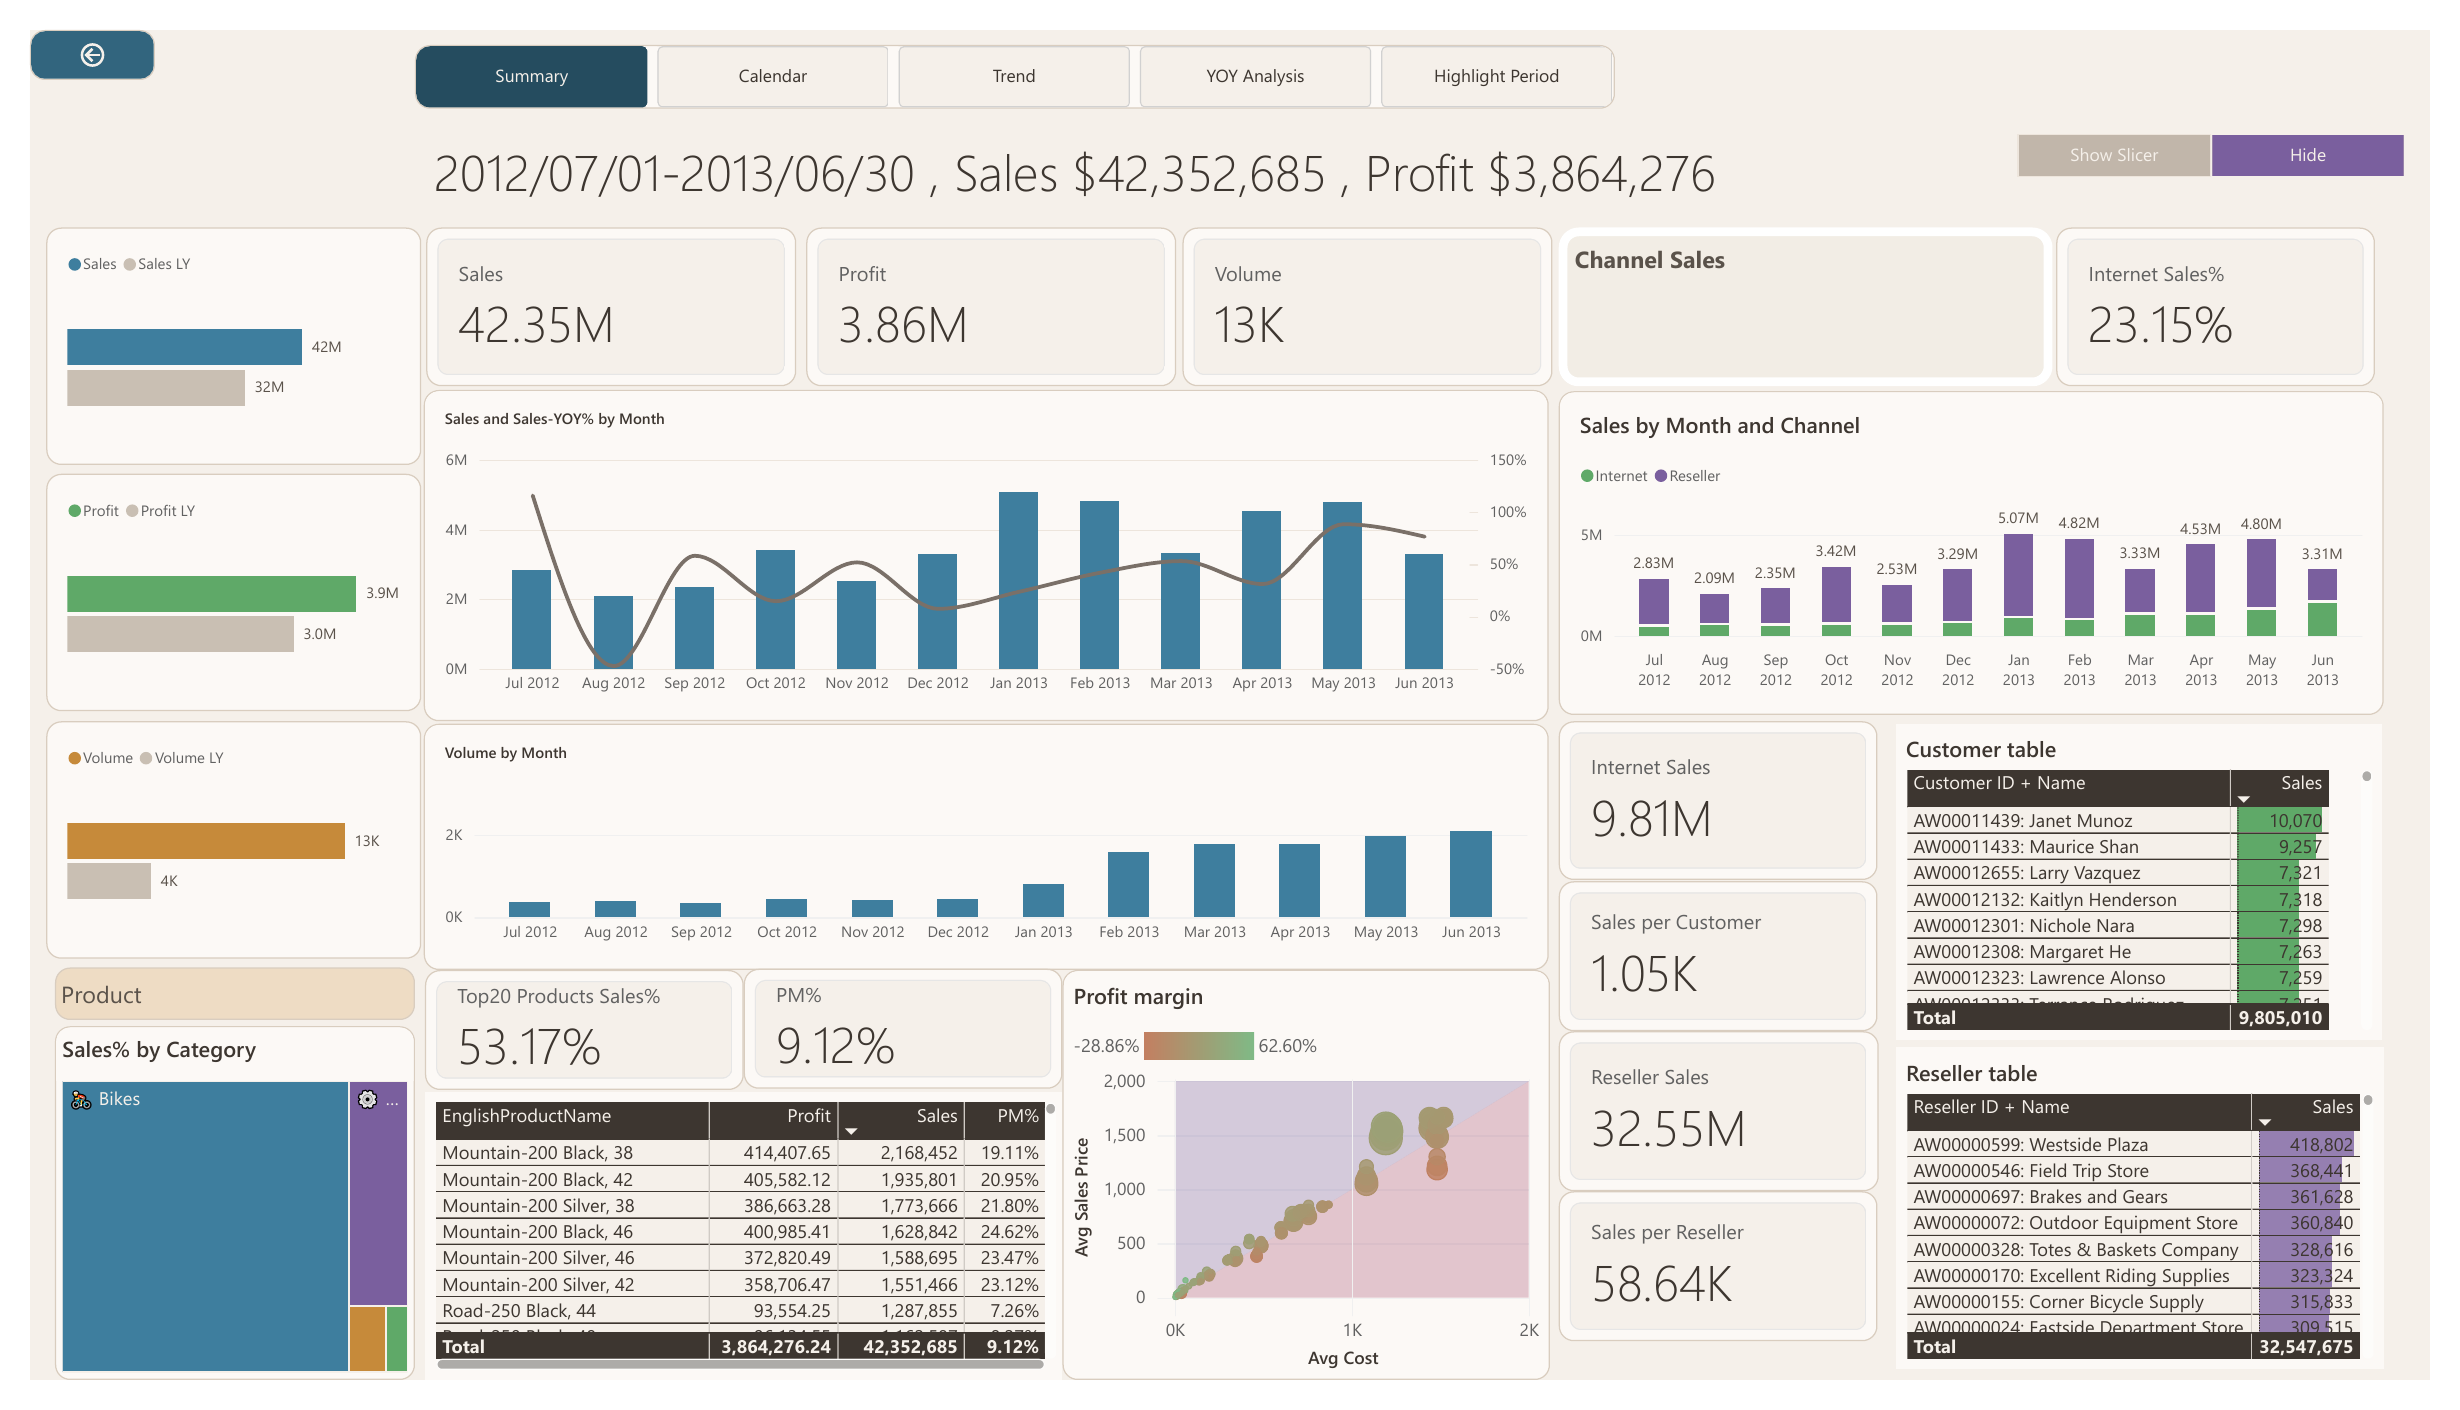

This screenshot's page, from the dashboard's own definition file:
{"tool":"powerbi","page":{"name":"Summary","canvas":[1920,1080],"ordinal":0},"visuals":[{"type":"pageNavigator","box":[308,12,960,51],"z":0},{"type":"textbox","box":[205,52,800,45],"z":1000},{"type":"cardVisual","fields":{"Data":["_Measures.Header Text"]},"box":[308,78,1200,68],"z":2000},{"type":"cardVisual","title":"Sales","fields":{"Data":["_Measures.Sales"]},"box":[316.7,158.3,296,127],"z":3000},{"type":"cardVisual","title":"Profit","fields":{"Data":["_Measures.Profit"]},"box":[620.6,157.8,296,127],"z":4000},{"type":"cardVisual","title":"Volume","fields":{"Data":["_Measures.Volume"]},"box":[921.7,158.3,296,127],"z":5000},{"type":"lineClusteredColumnComboChart","title":"Sales and Sales-YOY% by Month","fields":{"Category":["Date.Month Label"],"Y":["_Measures.Sales"],"Y2":["_Measures.Sales YOY%"]},"box":[315,288.3,900,265],"z":6000},{"type":"actionButton","box":[0,0,100,40],"z":7000},{"type":"columnChart","title":"Volume by Month","fields":{"Category":["Date.Month Label"],"Y":["_Measures.Volume"]},"box":[315,555,900,196.7],"z":8000},{"type":"columnChart","title":"Sales by Month and Channel","fields":{"Category":["Date.Month Label"],"Series":["Sales.Channel"],"Y":["_Measures.Sales"]},"box":[1222.5,289.2,660,258.6],"z":9000},{"type":"textbox","box":[1222.5,157.5,395,127.5],"z":10000},{"type":"cardVisual","title":"Internet Sales %","fields":{"Data":["_Measures.Internet Sales%"]},"box":[1621,158,255,127],"z":11000},{"type":"cardVisual","title":"Internet Sales","fields":{"Data":["_Measures.Internet Sales"]},"box":[1222.5,553.3,255.7,127.1],"z":12000},{"type":"cardVisual","fields":{"Data":["_Measures.Sales per Customer"]},"box":[1222.5,680.8,255.7,120],"z":13000},{"type":"cardVisual","title":"Reseller Sales","fields":{"Data":["_Measures.Reseller Sales"]},"box":[1223.3,800.8,255.7,128.6],"z":14000},{"type":"cardVisual","title":"Sales per Reseller","fields":{"Data":["_Measures.Sales per Reseller"]},"box":[1222.5,929.2,255.7,120],"z":15000},{"type":"tableEx","title":"Customer table","fields":{"Values":["DimCustomer.Customer ID + Name","_Measures.Sales"]},"box":[1493.3,555,388.3,252.5],"z":16000},{"type":"tableEx","title":"Reseller table","fields":{"Values":["DimReseller.Reseller ID + Name","_Measures.Sales"]},"box":[1493.3,814.2,389.2,256.7],"z":17000},{"type":"actionButton","title":"Show slicer","box":[1590,83.3,155,35],"z":19000},{"type":"actionButton","title":"Hide","box":[1745,83.3,155,35],"z":20000},{"type":"actionButton","title":"Hide","box":[1745,82.8,155,35],"z":21000},{"type":"textbox","box":[19.8,750.5,288.6,42],"z":23000},{"type":"treemap","title":"Sales% by Category","fields":{"Group":["DimProductCategory.Category_Slicer_Emoji"],"Values":["_Measures.Sales"]},"box":[19.8,796.6,288.6,283.7],"z":24000},{"type":"cardVisual","fields":{"Data":["_Measures.Top20 Products Sales%"]},"box":[316.1,751.7,255,96],"z":25000},{"type":"cardVisual","fields":{"Data":["_Measures.PM%"]},"box":[570.7,751,255,96],"z":26000},{"type":"tableEx","title":"Reseller table","fields":{"Values":["DimProduct.EnglishProductName","_Measures.Profit","_Measures.Sales","_Measures.PM%"]},"box":[316.1,850,510,230],"z":27000},{"type":"scatterChart","title":"Profit margin","fields":{"Category":["DimProduct.EnglishProductName"],"Size":["_Measures.Sales"],"X":["_Measures.Avg Cost"],"Y":["_Measures.Avg Sales Price"]},"box":[826.1,751.7,390,328.3],"z":28000},{"type":"clusteredBarChart","fields":{"Y":["_Measures.Sales","_Measures.Sales LY"]},"box":[13.3,158.3,300,190],"z":29000},{"type":"clusteredBarChart","fields":{"Y":["_Measures.Profit","_Measures.Profit LY"]},"box":[13.3,355,300,190],"z":30000},{"type":"clusteredBarChart","fields":{"Y":["_Measures.Volume","_Measures.Volume LY"]},"box":[13.3,553.3,300,190],"z":31000}]}

Visuals, with their boxes in screenshot pixels (x1, y1, x2, y2), scaled from the page's 1920x1080 canvas onto the 2460x1410 screenshot:
pageNavigator: bbox(395, 16, 1625, 82)
textbox: bbox(263, 68, 1288, 127)
cardVisual - _Measures.Header Text: bbox(395, 102, 1932, 191)
"Sales" cardVisual: bbox(406, 207, 785, 372)
"Profit" cardVisual: bbox(795, 206, 1174, 372)
"Volume" cardVisual: bbox(1181, 207, 1560, 372)
"Sales and Sales-YOY% by Month" lineClusteredColumnComboChart: bbox(404, 376, 1557, 722)
actionButton: bbox(0, 0, 128, 52)
"Volume by Month" columnChart: bbox(404, 725, 1557, 981)
"Sales by Month and Channel" columnChart: bbox(1566, 378, 2412, 715)
textbox: bbox(1566, 206, 2072, 372)
"Internet Sales %" cardVisual: bbox(2077, 206, 2404, 372)
"Internet Sales" cardVisual: bbox(1566, 722, 1894, 888)
cardVisual - _Measures.Sales per Customer: bbox(1566, 889, 1894, 1045)
"Reseller Sales" cardVisual: bbox(1567, 1045, 1895, 1213)
"Sales per Reseller" cardVisual: bbox(1566, 1213, 1894, 1370)
"Customer table" tableEx: bbox(1913, 725, 2411, 1054)
"Reseller table" tableEx: bbox(1913, 1063, 2412, 1398)
"Show slicer" actionButton: bbox(2037, 109, 2236, 154)
"Hide" actionButton: bbox(2236, 109, 2434, 154)
"Hide" actionButton: bbox(2236, 108, 2434, 154)
textbox: bbox(25, 980, 395, 1035)
"Sales% by Category" treemap: bbox(25, 1040, 395, 1409)
cardVisual - _Measures.Top20 Products Sales%: bbox(405, 981, 732, 1107)
cardVisual - _Measures.PM%: bbox(731, 980, 1058, 1106)
"Reseller table" tableEx: bbox(405, 1110, 1058, 1409)
"Profit margin" scatterChart: bbox(1058, 981, 1558, 1409)
clusteredBarChart - _Measures.Sales x _Measures.Sales LY: bbox(17, 207, 401, 455)
clusteredBarChart - _Measures.Profit x _Measures.Profit LY: bbox(17, 463, 401, 712)
clusteredBarChart - _Measures.Volume x _Measures.Volume LY: bbox(17, 722, 401, 970)
